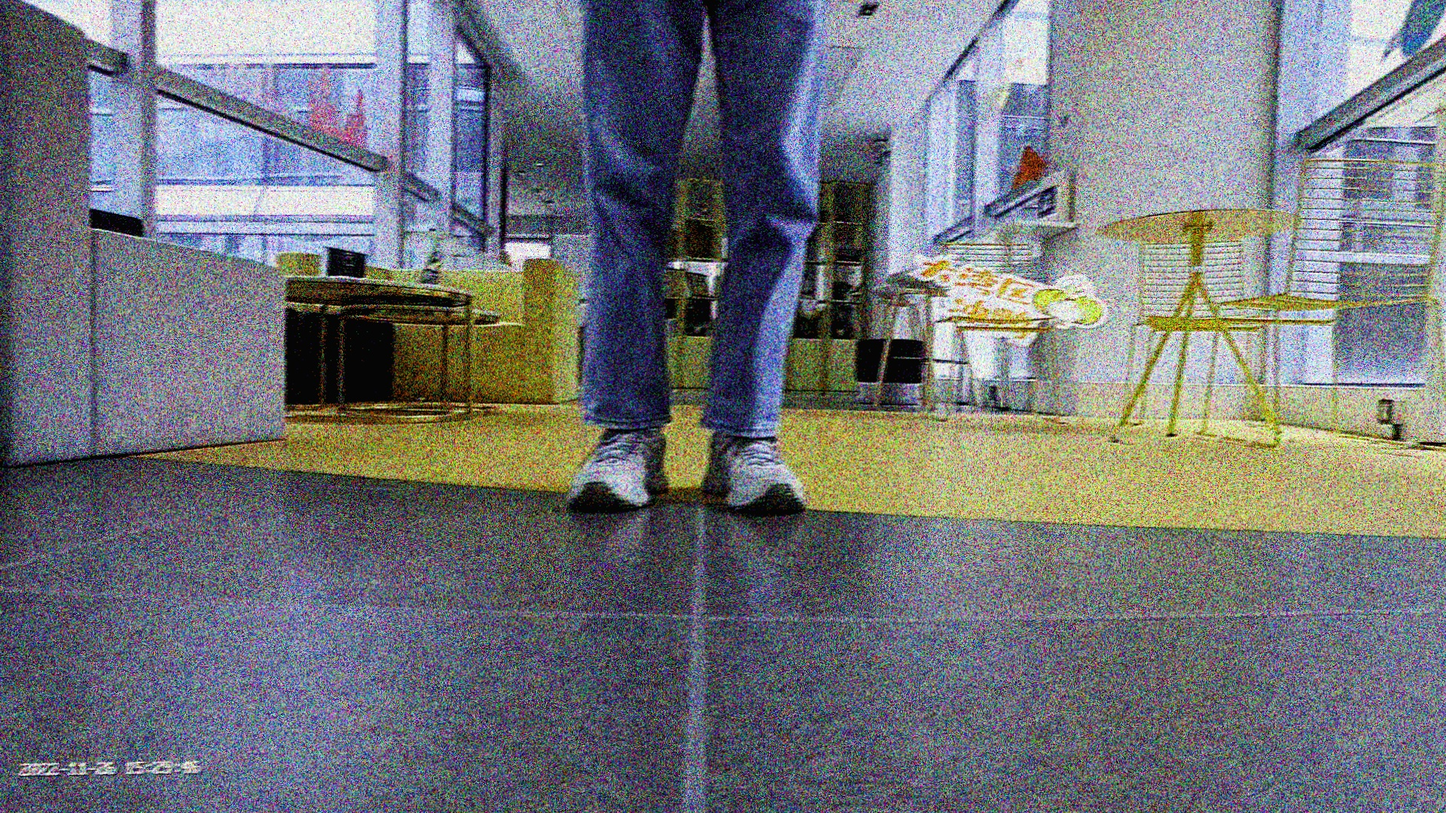person: (556, 0, 840, 515)
